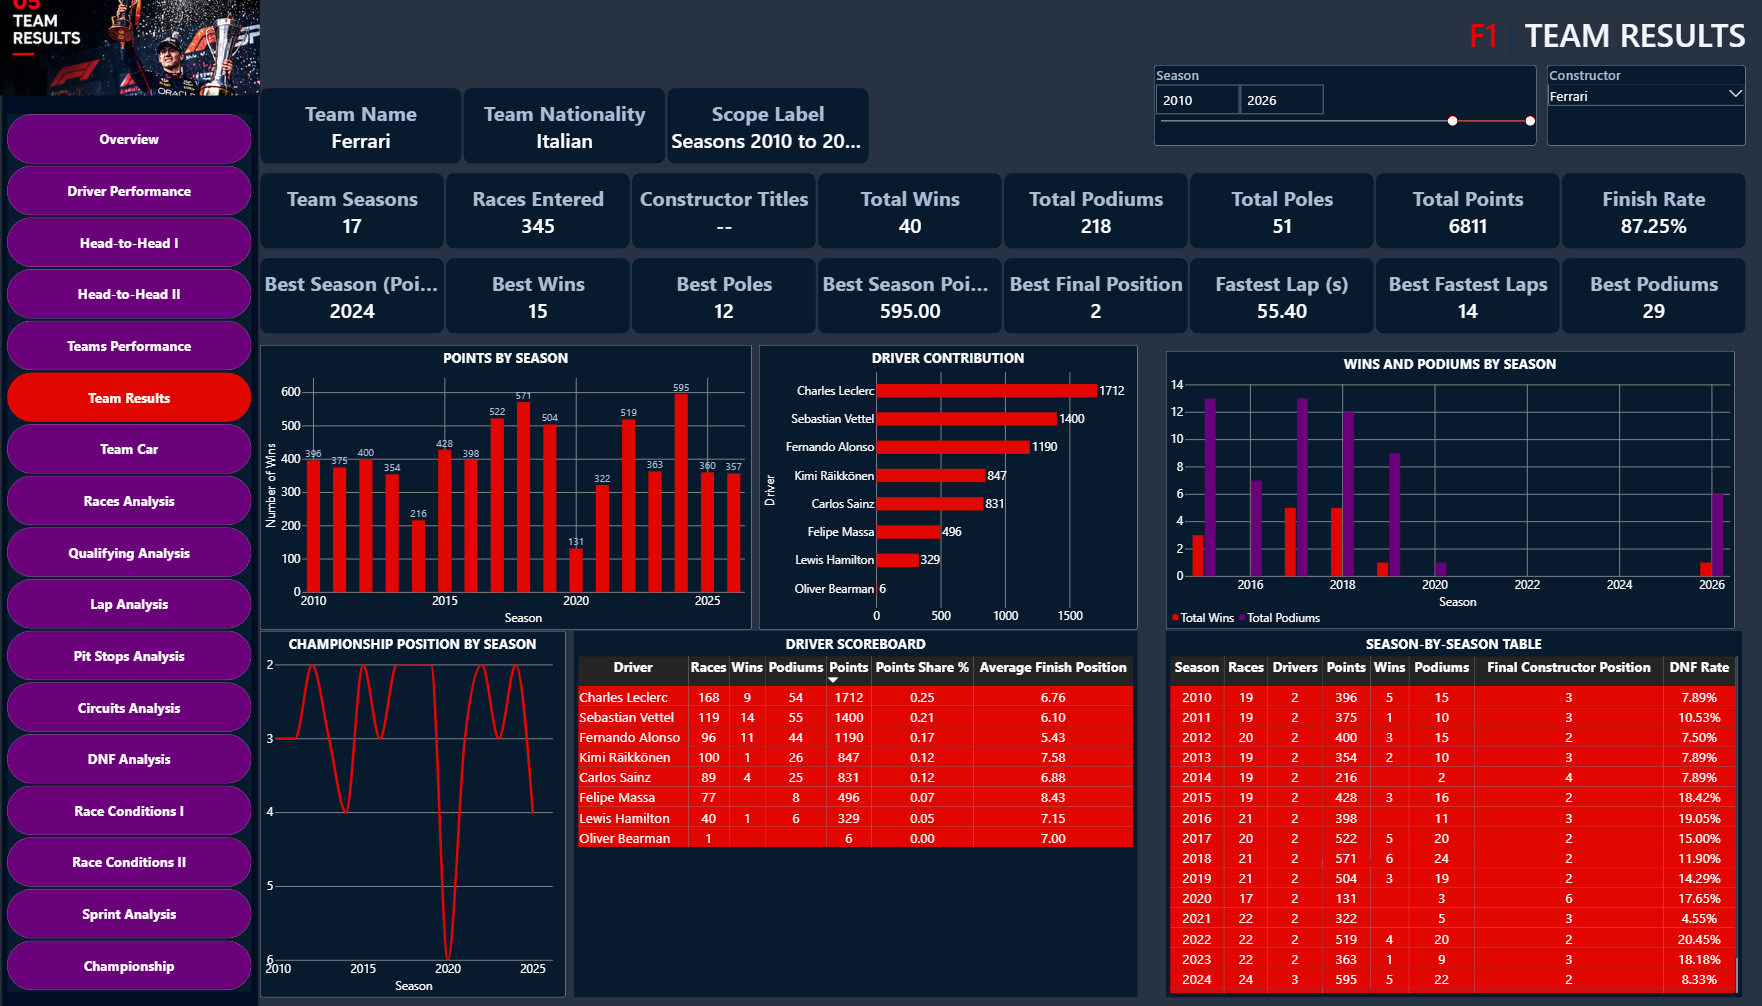

What the dashboard file says about the page in this screenshot:
{"tool":"powerbi","page":{"name":"Team Results","canvas":[7000,4000],"ordinal":7},"visuals":[{"type":"textbox","box":[5793.1,49.3,1142.9,182.3],"z":0},{"type":"clusteredColumnChart","title":"POINTS BY SEASON","fields":{"Category":["races.year"],"Y":["results.Total Points"]},"box":[1039.4,1369.5,1950.7,1128.1],"z":1000},{"type":"slicer","fields":{"Values":["constructors.name"]},"box":[6147.8,256.2,788.2,320.2],"z":2000},{"type":"clusteredColumnChart","title":"WINS AND PODIUMS BY SEASON","fields":{"Category":["races.year"],"Y":["results.Total Wins","results.Total Podiums"]},"box":[4635.5,1394.1,2256.2,1103.4],"z":3000},{"type":"tableEx","title":"DRIVER SCOREBOARD","fields":{"Values":["drivers.fullname","results.Driver Races","results.Total Wins","results.Total Podiums","results.Total Points","constructor_standings.Points Share %","results.Average Finish Position"]},"box":[2285.7,2502.5,2236.5,1453.2],"z":4000},{"type":"cardVisual","fields":{"Data":["constructors.Team Name","constructors.Team Nationality","constructors.Scope Label"]},"box":[1039.4,349.8,2418.7,300],"z":5000},{"type":"lineChart","title":"CHAMPIONSHIP POSITION BY SEASON","fields":{"Category":["races.year"],"Y":["constructor_standings.Final Constructor Position"]},"box":[1039.4,2502.5,1211.8,1453.2],"z":6000},{"type":"barChart","title":"DRIVER CONTRIBUTION","fields":{"Category":["drivers.fullname"],"Y":["results.Total Points"]},"box":[3019.7,1369.5,1502.5,1128.1],"z":7000},{"type":"tableEx","title":"SEASON-BY-SEASON TABLE","fields":{"Values":["races.year","results.Races Entered","results.Team Drivers","results.Total Points","results.Total Wins","results.Total Podiums","constructor_standings.Final Constructor Position","results.DNF Rate"]},"box":[4635.5,2502.5,2285.7,1453.2],"z":8000},{"type":"cardVisual","fields":{"Data":["results.Team Seasons","results.Races Entered","constructor_standings.Constructor Titles","results.Total Wins","results.Total Podiums","results.Total Poles","results.Total Points","results.Finish Rate"]},"box":[1039.4,684.7,5896.6,300.5],"z":9000},{"type":"cardVisual","fields":{"Data":["results.Best Season (Points)","results.Best Wins","results.Best Poles","results.Best Season Points","constructor_standings.Best Final Position","lap_times.Fastest Lap (s)","results.Best Fastest Laps","results.Best Podiums"]},"box":[1039.4,1024.6,5896.6,300.5],"z":10000},{"type":"slicer","fields":{"Values":["races.year"]},"box":[4586.2,256.2,1517.2,320.2],"z":11000},{"type":"shape","box":[9.9,0,1029.6,4502.5],"z":12000},{"type":"pageNavigator","box":[34.5,453.2,970.4,3482.8],"z":13000},{"type":"image","box":[0,0,1039.4,379.3],"z":14000}]}

Visuals, with their boxes on the page's 7000x4000 design canvas (x1, y1, x2, y2). These are canvas units, not pixel positions in the 1762x1006 screenshot, which may show the page scaled, cropped or inside an application window:
textbox: (5793,49,6936,232)
"POINTS BY SEASON" clusteredColumnChart: (1039,1370,2990,2498)
slicer - constructors.name: (6148,256,6936,576)
"WINS AND PODIUMS BY SEASON" clusteredColumnChart: (4636,1394,6892,2498)
"DRIVER SCOREBOARD" tableEx: (2286,2502,4522,3956)
cardVisual - constructors.Team Name x constructors.Team Nationality: (1039,350,3458,650)
"CHAMPIONSHIP POSITION BY SEASON" lineChart: (1039,2502,2251,3956)
"DRIVER CONTRIBUTION" barChart: (3020,1370,4522,2498)
"SEASON-BY-SEASON TABLE" tableEx: (4636,2502,6921,3956)
cardVisual - results.Team Seasons x results.Races Entered: (1039,685,6936,985)
cardVisual - results.Best Season (Points) x results.Best Wins: (1039,1025,6936,1325)
slicer - races.year: (4586,256,6103,576)
shape: (10,0,1040,4502)
pageNavigator: (34,453,1005,3936)
image: (0,0,1039,379)
